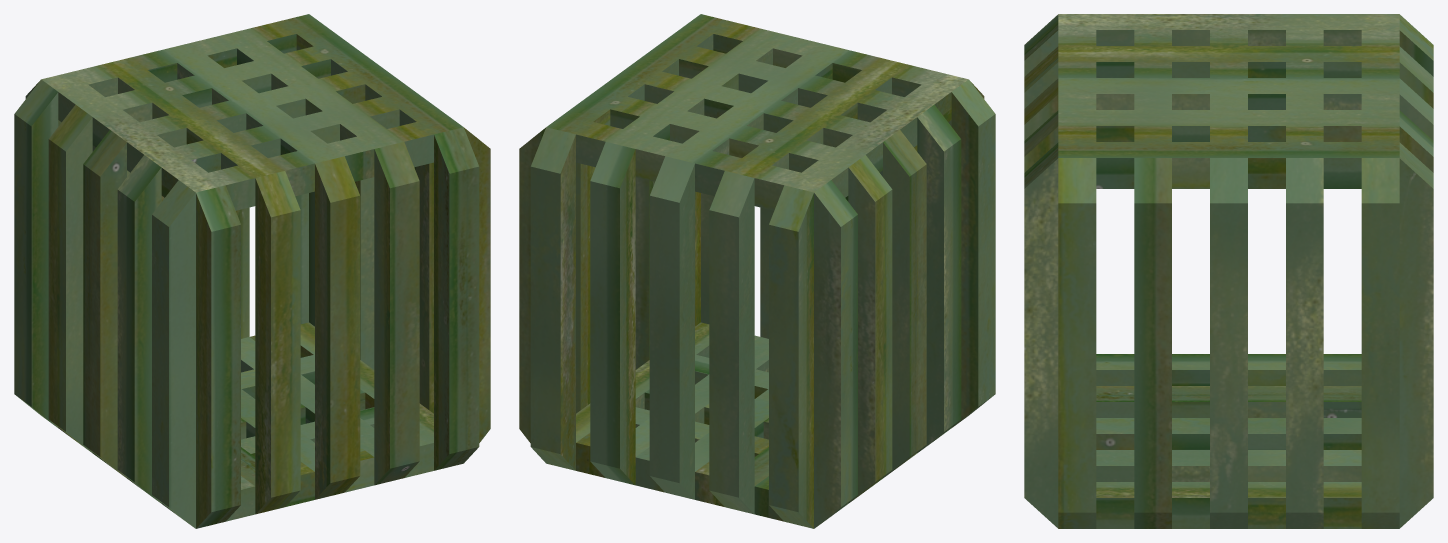
File: spawner.dae
The picture shows the model from 3 angles, left to right: view 1: azimuth 30°, elevation 25°; view 2: azimuth 150°, elevation 25°; view 3: azimuth 270°, elevation 25°; orthographic projection. The views are drawn at different scales.
Visible parts, largest first — view 1: Cube; view 2: Cube; view 3: Cube.
Part boxes in pixels (bbox=[...]): Cube: bbox=[14, 14, 490, 528]; Cube: bbox=[519, 14, 995, 528]; Cube: bbox=[1024, 14, 1433, 528].
Size of the model in its own units: 2.4 by 2.4 by 2.4.
